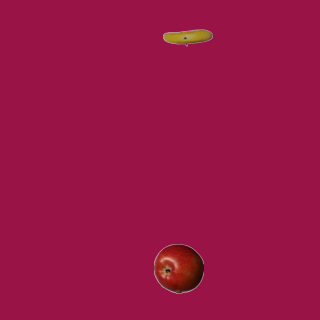Apple Braeburn: (153, 243, 203, 293)
Banana: (162, 12, 212, 62)
